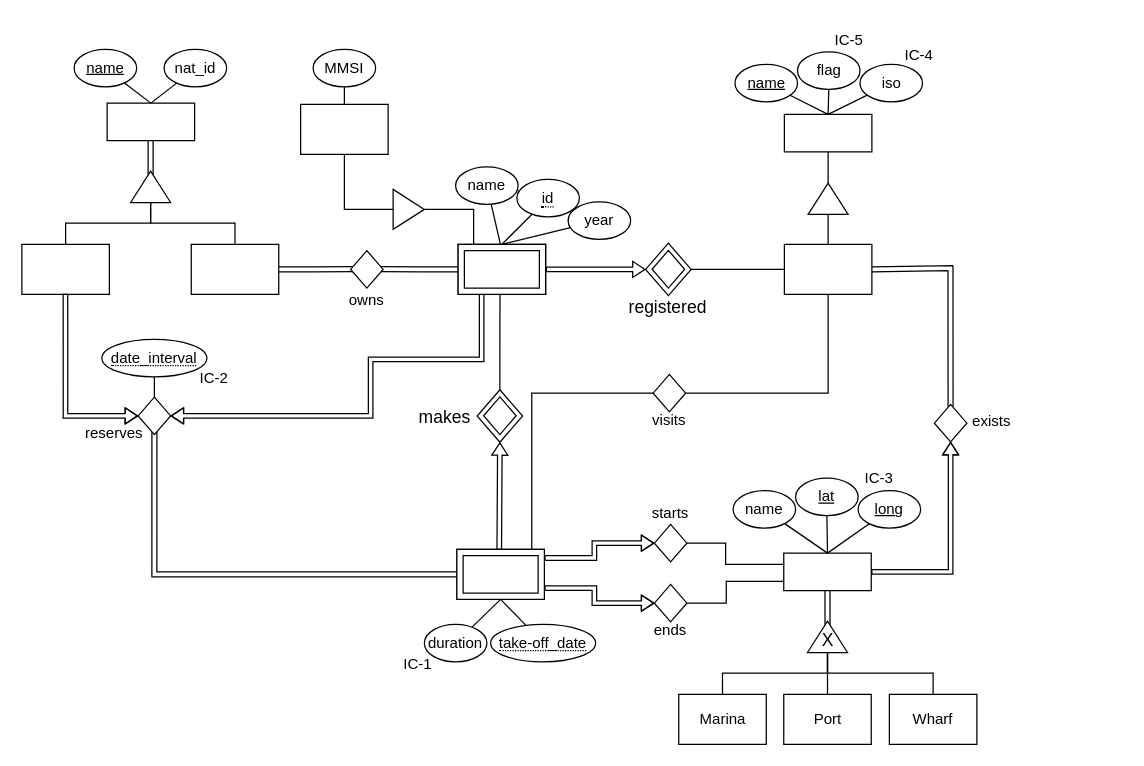
The diagram is 1144 pixels wide and 766 high, and some of its shapes have lost their labels. Here are the shapes that lost their labels. From the top down, the centre of each, then its label:
At pixel 150 121: "Person".
At pixel 343 128: "Boat_VHF".
At pixel 827 132: "Country".
At pixel 65 268: "Sailor".
At pixel 234 268: "Onwer".
At pixel 501 268: "Boat".
At pixel 827 268: "Juristiction Country".
At pixel 500 573: "Trip".
At pixel 826 571: "Location".
